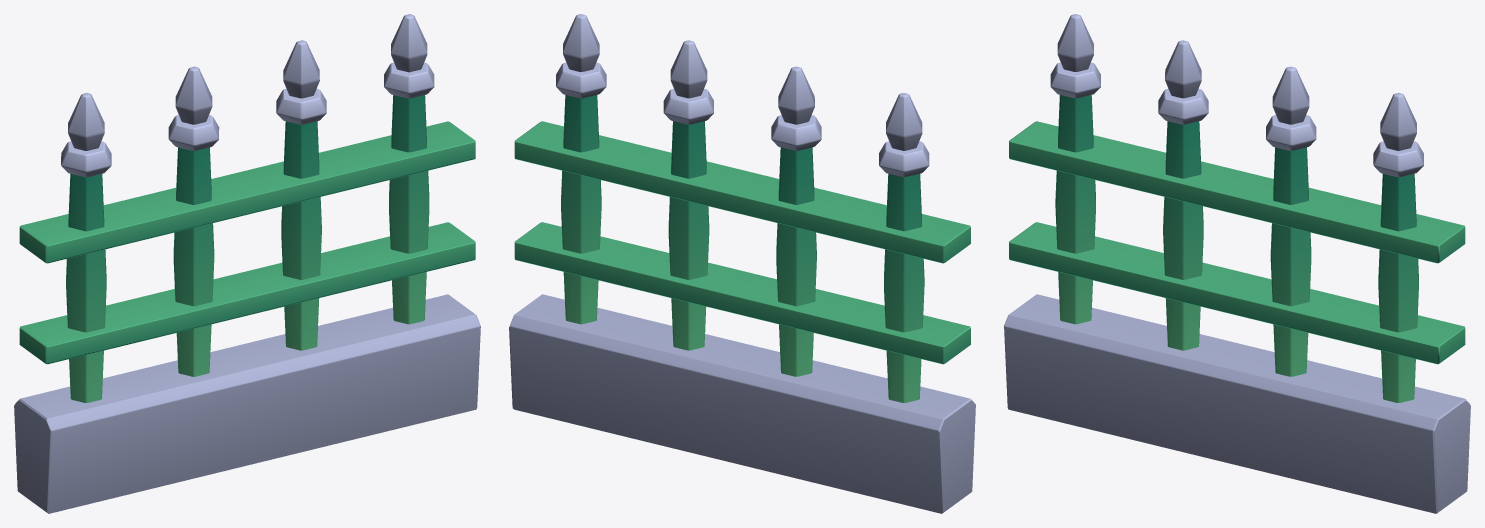
The model's file is kenney-graveyard__iron-fence-border.glb.
3 renders of one model, left to right at view 1: azimuth 30°, elevation 25°; view 2: azimuth 150°, elevation 25°; view 3: azimuth 330°, elevation 25°, orthographic.
Parts seen in each view (by area): view 1: iron-fence-border; view 2: iron-fence-border; view 3: iron-fence-border.
Boxes of the visible parts, x1,y1,x2,y2 form: iron-fence-border: (14,14,480,513); iron-fence-border: (509,14,975,513); iron-fence-border: (1004,14,1470,513).
Size of the model in its own units: 1 by 0.8789 by 0.1499.
Materials: 1 (1 with a texture image).
